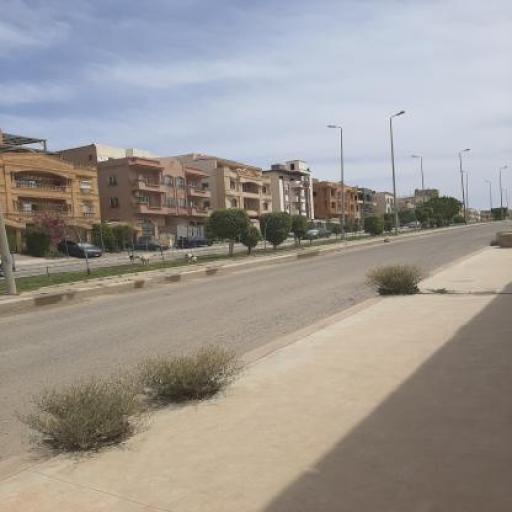street light: (389, 111, 406, 234), (328, 126, 346, 240), (411, 155, 426, 223), (459, 149, 470, 226), (460, 171, 469, 222), (500, 166, 508, 222), (485, 180, 492, 219), (501, 190, 508, 220)
